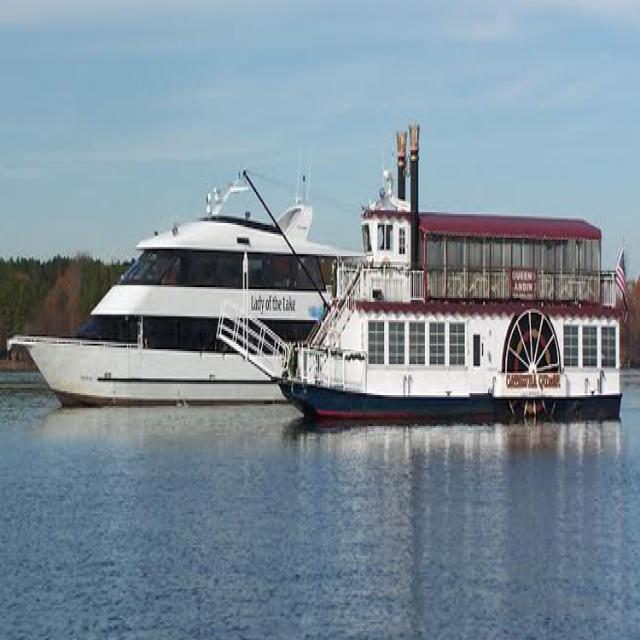houseboat: (1, 190, 335, 409)
passenger ship: (282, 110, 640, 426)
